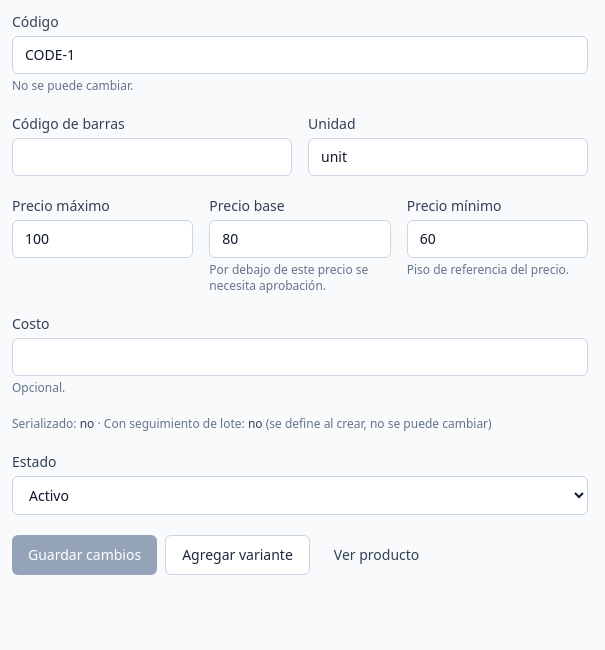
Test: VariantForm — edit › surfaces a 409 barcode conflict safely (the general error alert, not a field block)
In the field labelled "Código de barras": (152,157) [12,138,292,176], type "DUP"
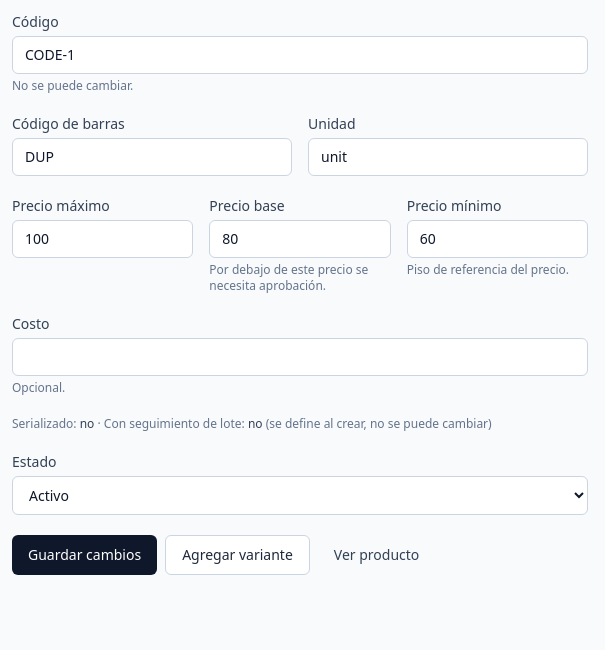
Click the button "Guardar cambios": (85,555) [12,535,157,575]
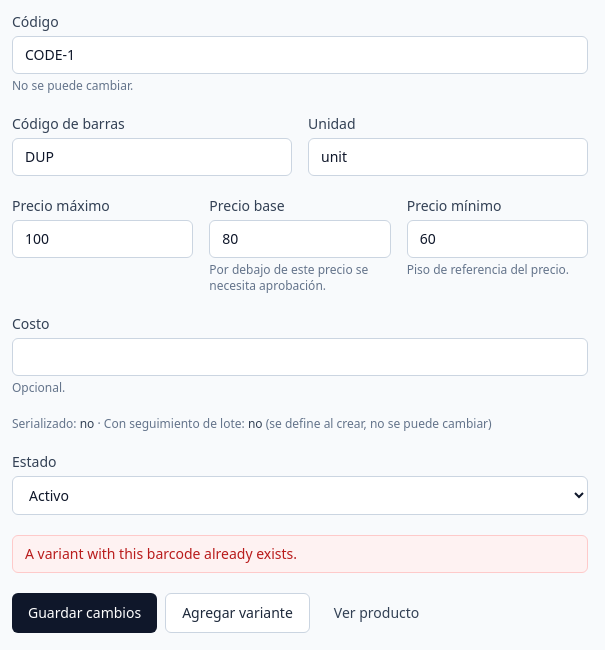
Now the text "A variant with this barcode already exists." is shown, box [25,544,297,563]
